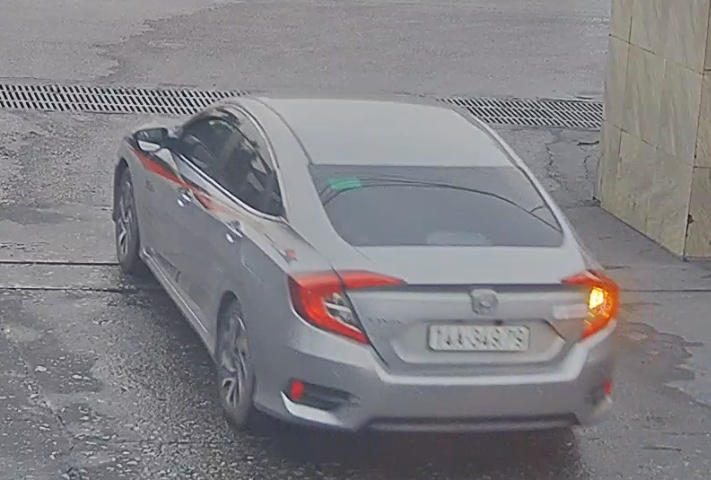vehicle plate: (425, 319, 532, 355)
